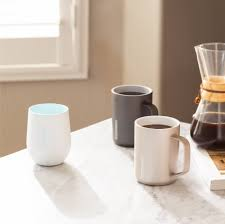mug: (11, 87, 86, 185), (127, 111, 193, 197), (96, 80, 161, 158)
